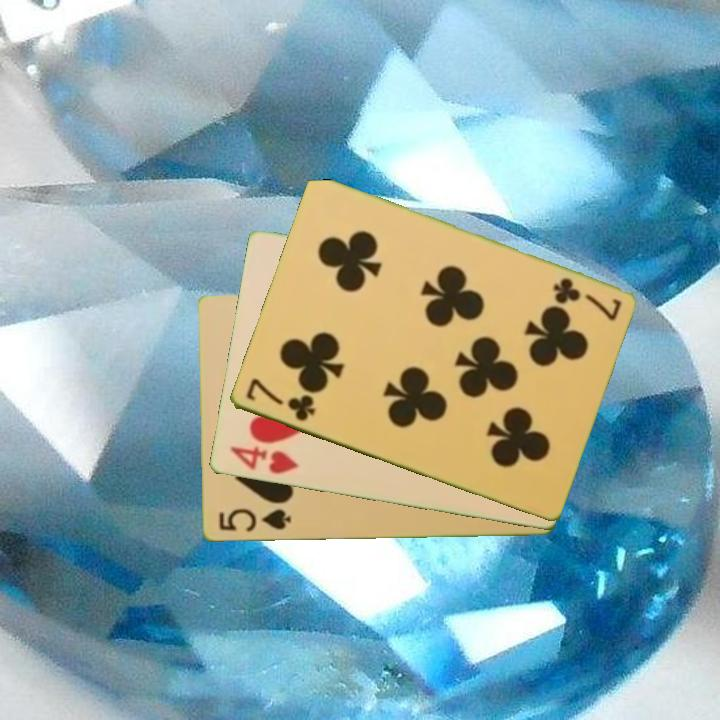4h: (225, 443, 301, 478)
5s: (214, 505, 293, 535)
7c: (241, 374, 318, 425), (549, 274, 624, 322)
